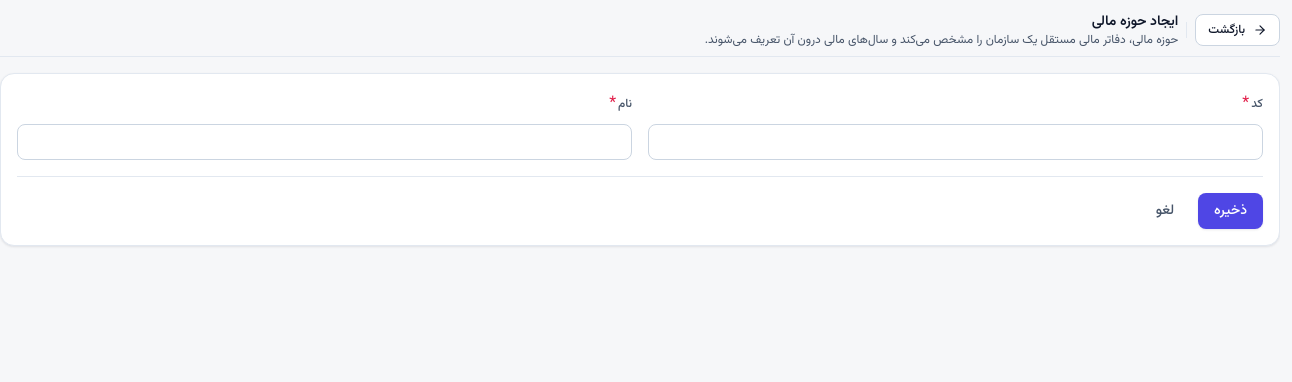
Test: FinancialAreaFormPage (ACC-01) › maps a server conflict into the alert and never exposes the raw message
This screenshot has width=1292, height=382.
Type "FIN" into the field labelled "کد" at (956, 142), box x1=648 y1=124 x2=1263 y2=160
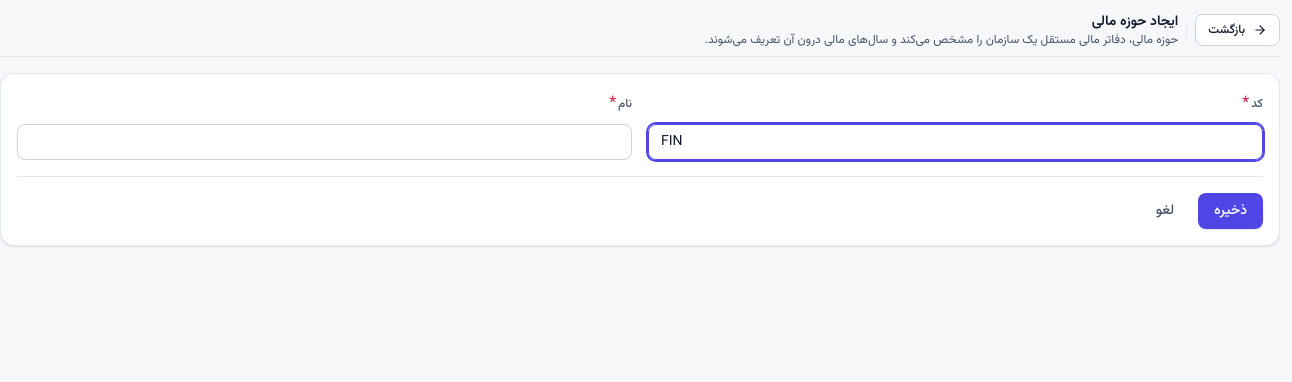
Type "حوزه مالی اصلی" into the field labelled "نام" at (324, 142), box x1=17 y1=124 x2=632 y2=160
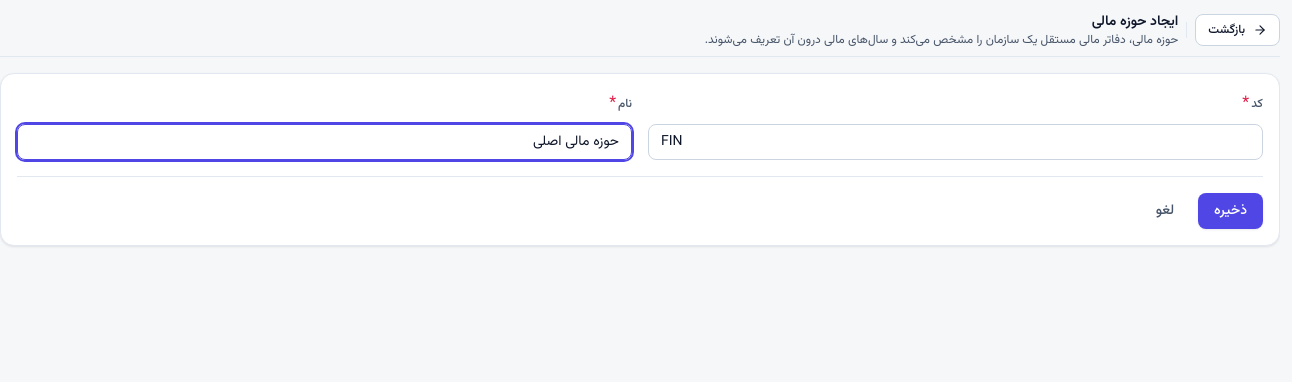
Click the button with test id "financial-area-form-submit" at (1231, 211), box x1=1198 y1=193 x2=1263 y2=229
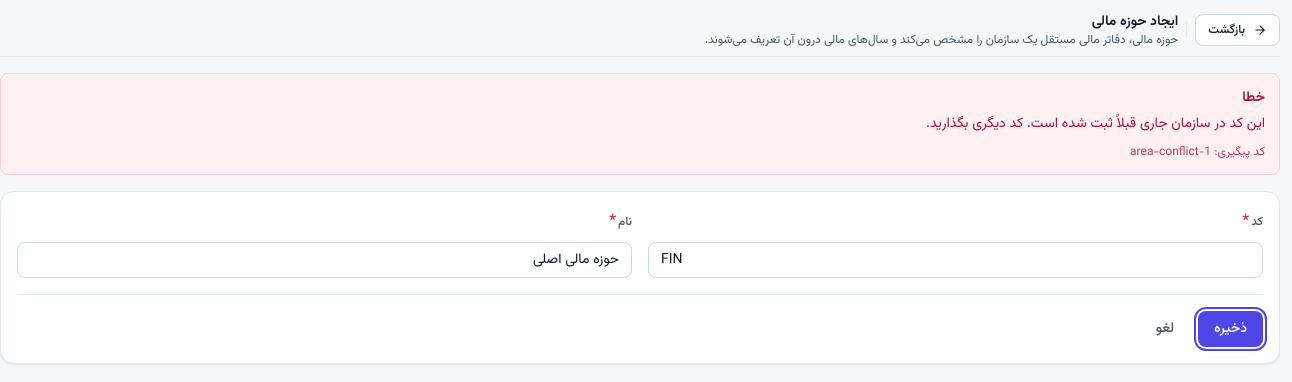
Expected: the text "این کد در سازمان جاری قبلاً ثبت شده است. کد دیگری بگذارید." is shown, x1=926 y1=112 x2=1265 y2=136
Expected: the message is shown, x1=0 y1=73 x2=1280 y2=175
